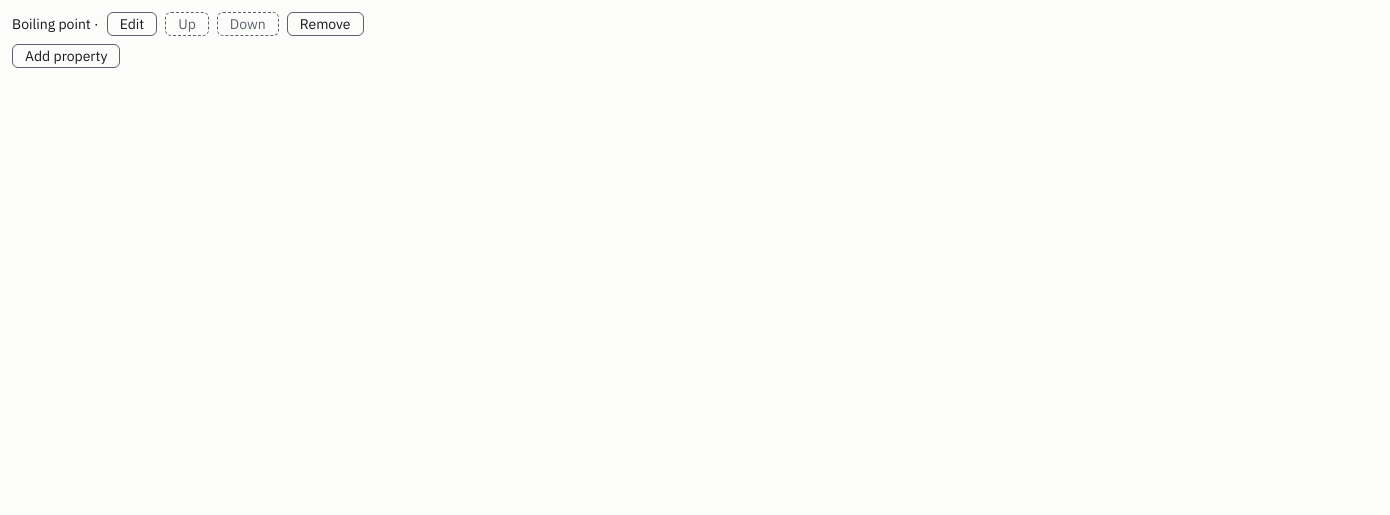
the properties section › the value is free text with the unit written in it; a hint under it per key; the hint never changes the value
The width and height of the screenshot is (1390, 515).
Click the button with aria-label "Edit property boiling point" at {"x": 132, "y": 24}, box [107, 12, 157, 36]
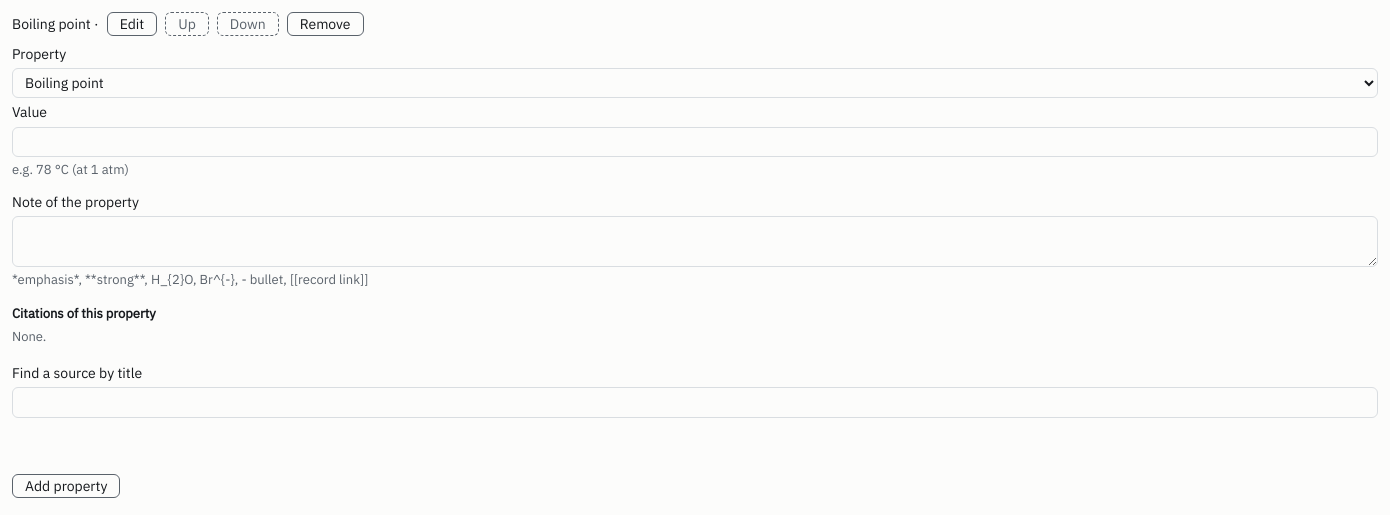
Expected: the text "e.g. 78 °C (at 1 atm)" is shown, [12, 161, 129, 178]
Type "78.4 °C (at 1 atm)" into the field labelled "Value" at {"x": 695, "y": 142}, box [12, 127, 1378, 157]
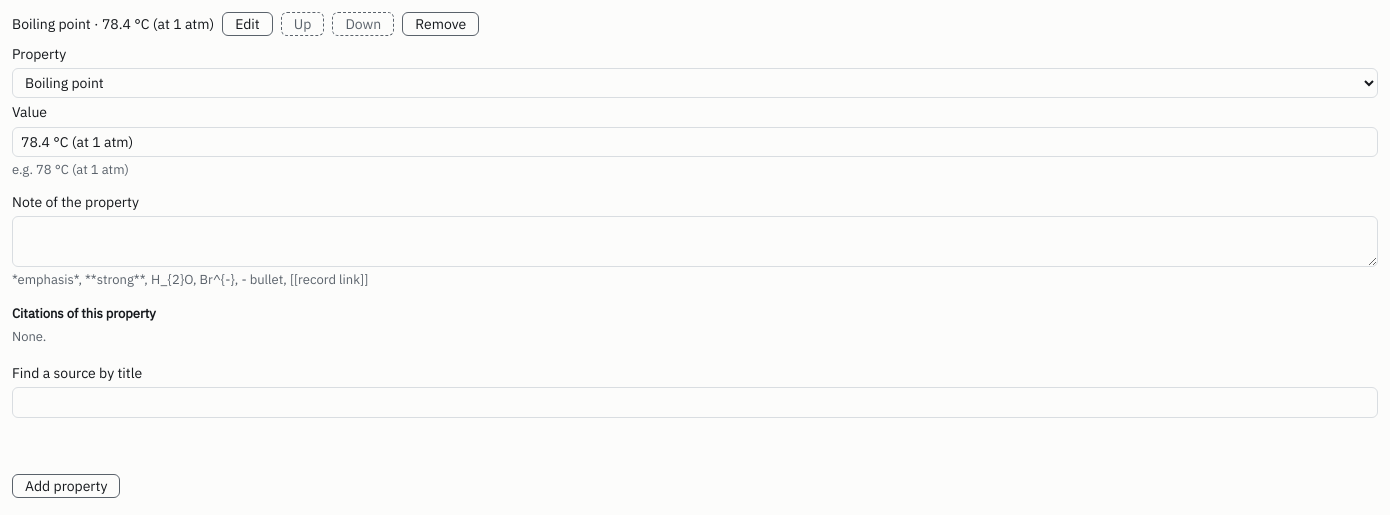
Select "Density" in the dropdown labelled "Property" at {"x": 695, "y": 83}, box [12, 68, 1378, 98]
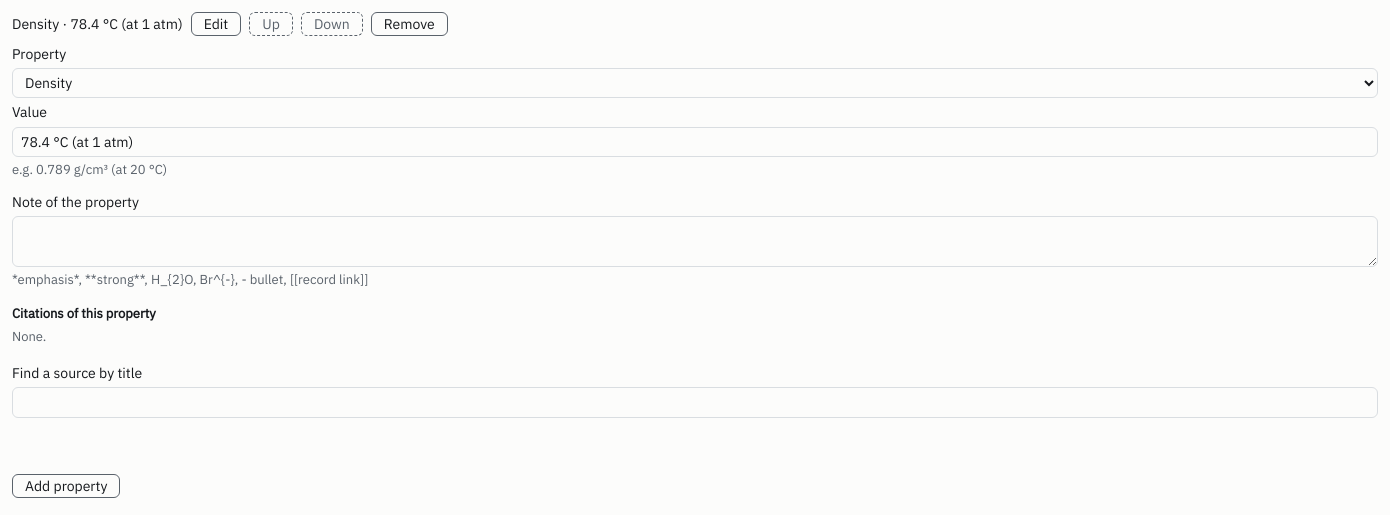
Expected: the text "e.g. 0.789 g/cm³ (at 20 °C)" is shown, [12, 161, 167, 178]
